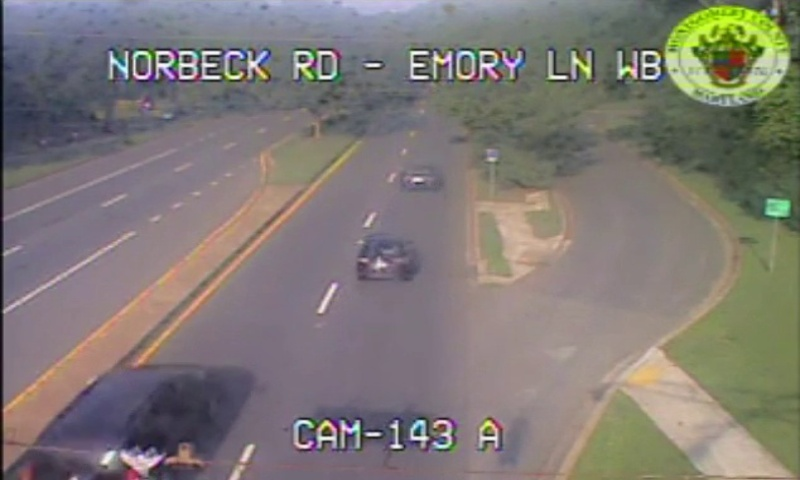car: (20, 365, 215, 480), (355, 234, 413, 277), (401, 165, 439, 189)
